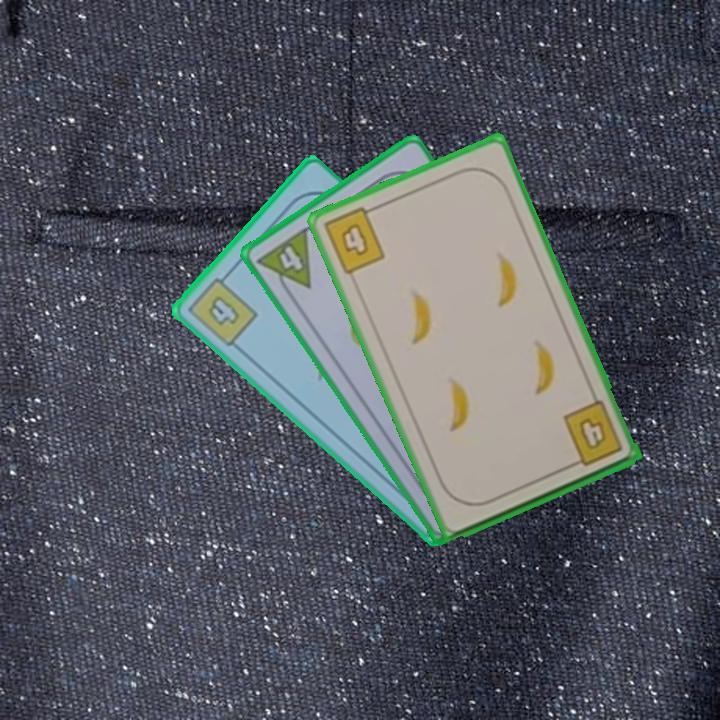4b: (183, 268, 261, 350), (319, 201, 388, 277), (559, 397, 625, 470)
4p: (253, 223, 314, 303)
